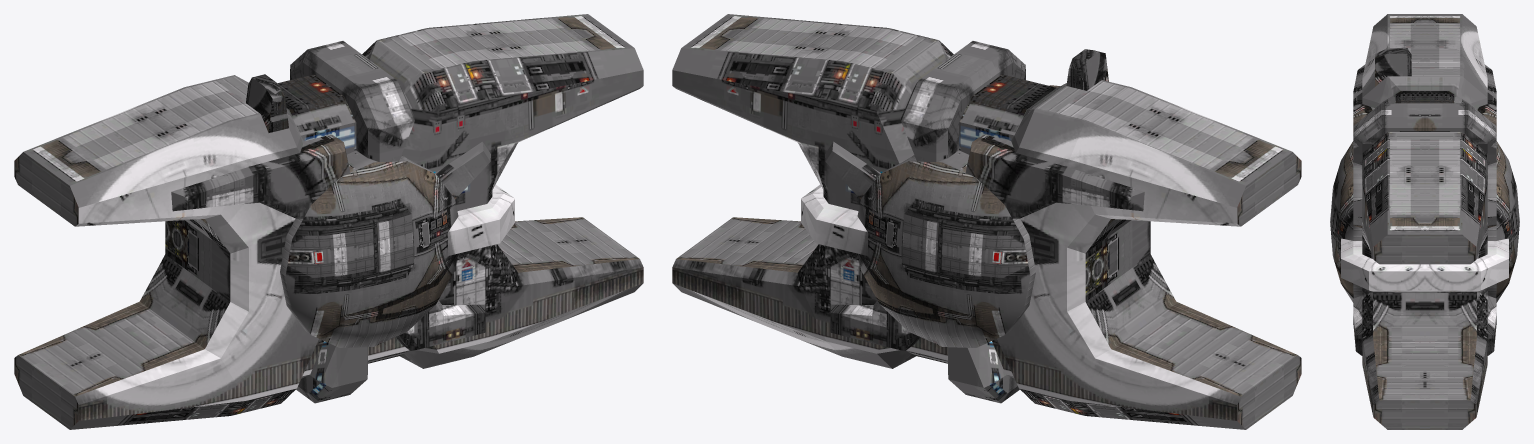
Rendered from LOD0-UVFlip.obj.
3 renders of one model, left to right at view 1: azimuth 30°, elevation 25°; view 2: azimuth 150°, elevation 25°; view 3: azimuth 270°, elevation 25°, orthographic. The views are drawn at different scales.
Visible parts, largest first — view 1: hw2Shader; view 2: hw2Shader; view 3: hw2Shader.
Boxes of the visible parts, bbox=[...] form: hw2Shader: bbox=[14, 14, 643, 429]; hw2Shader: bbox=[672, 14, 1301, 429]; hw2Shader: bbox=[1330, 14, 1519, 429].
Bounding box in the file's own units: 80.39 × 44.25 × 29.22.
